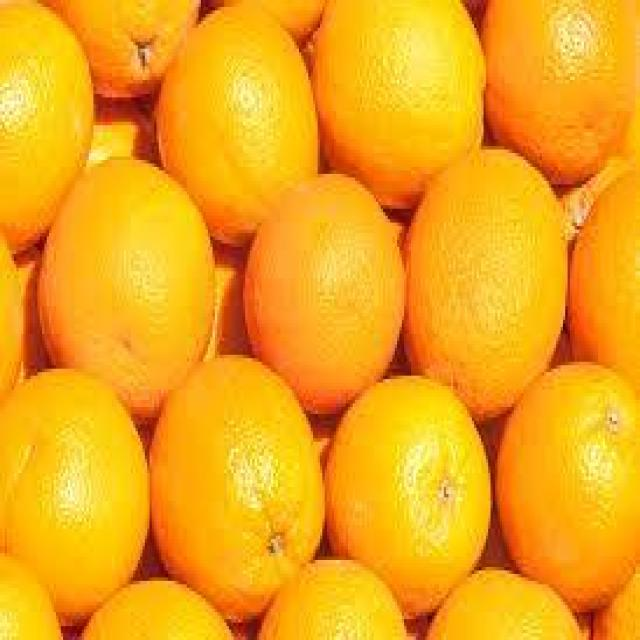Good_Orange: (399, 146, 570, 428), (149, 355, 322, 630), (322, 376, 493, 623), (241, 174, 409, 421), (152, 3, 320, 250), (37, 160, 213, 393), (493, 362, 640, 619), (0, 369, 152, 616), (313, 0, 488, 212)
